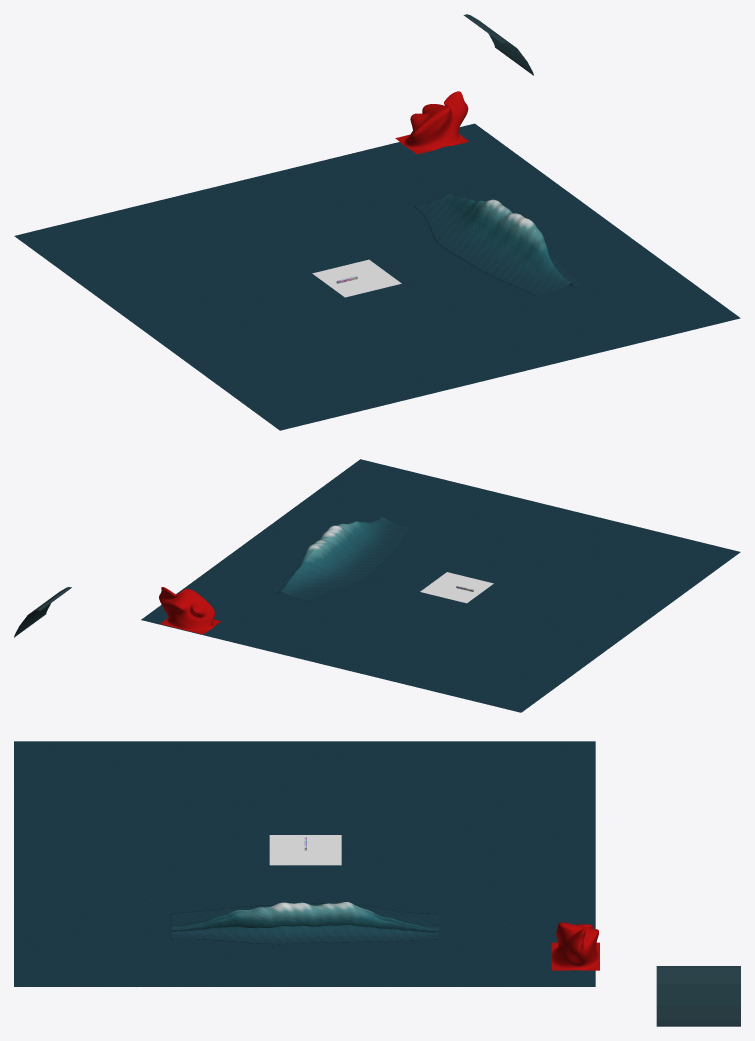
The picture shows the model from 3 angles, top to bottom: view 1: azimuth 30°, elevation 25°; view 2: azimuth 150°, elevation 25°; view 3: azimuth 270°, elevation 25°; orthographic projection. The views are drawn at different scales.
Visible parts, largest first — view 1: Sea, TsunamiWave, Red Big Thing, Land, Cube; view 2: Sea, TsunamiWave, Red Big Thing, Land, Cube; view 3: Sea, TsunamiWave, Cube, Land, Red Big Thing.
Boxes of the visible parts, x1,y1,x2,y2 form: Sea: [14, 123, 740, 430]; TsunamiWave: [414, 193, 582, 296]; Red Big Thing: [395, 91, 469, 154]; Land: [312, 259, 401, 297]; Cube: [463, 14, 533, 75]; Sea: [141, 459, 740, 712]; TsunamiWave: [271, 517, 410, 601]; Red Big Thing: [159, 587, 221, 634]; Land: [420, 572, 493, 603]; Cube: [14, 587, 71, 637]; Sea: [14, 741, 595, 986]; TsunamiWave: [170, 902, 438, 944]; Cube: [656, 966, 740, 1026]; Land: [269, 835, 341, 865]; Red Big Thing: [551, 922, 599, 970].
Bounding box in the file's own units: 1426 × 115 × 1500.
5 materials, 1 textured.
